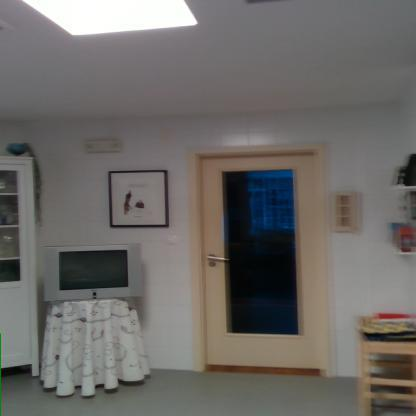door: (200, 156, 324, 369)
lever: (206, 252, 233, 263)
